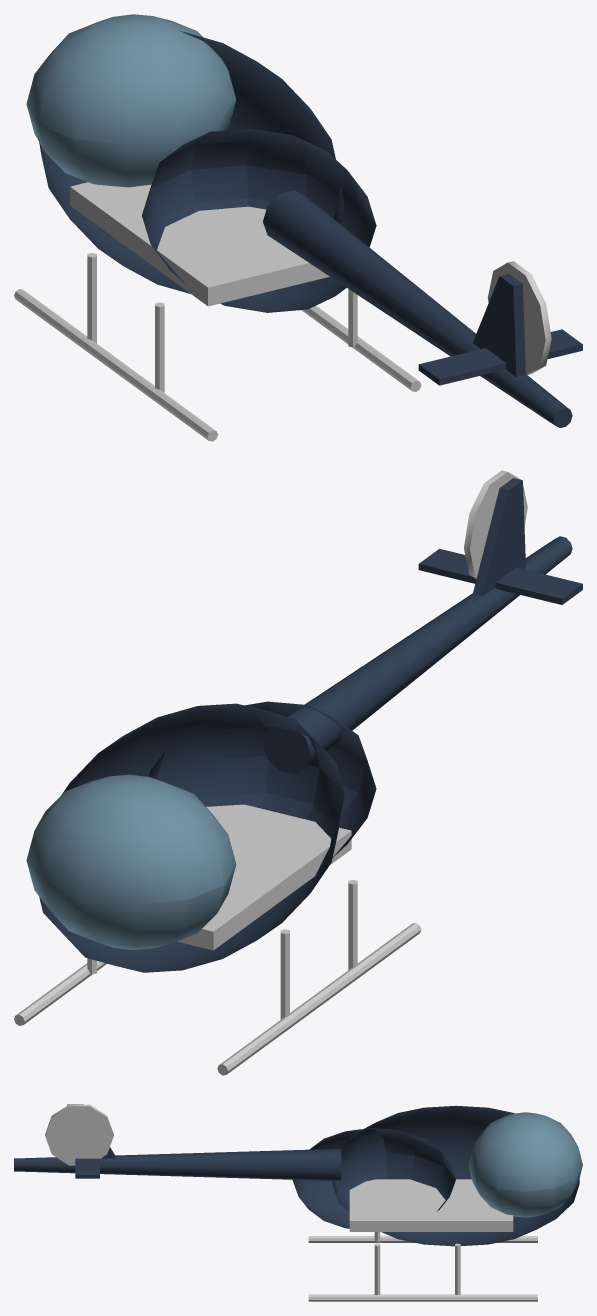
3 renders of one model, top to bottom at view 1: azimuth 30°, elevation 25°; view 2: azimuth 150°, elevation 25°; view 3: azimuth 270°, elevation 25°, orthographic. The views are drawn at different scales.
Visible parts, largest first — view 1: model; view 2: model; view 3: model.
Part boxes in pixels (x1=…): model: x1=14, y1=14, x2=582, y2=441; model: x1=14, y1=470, x2=582, y2=1075; model: x1=14, y1=1104, x2=582, y2=1301.
Bounding box in the file's own units: 1.9 × 2.29 × 6.95.
